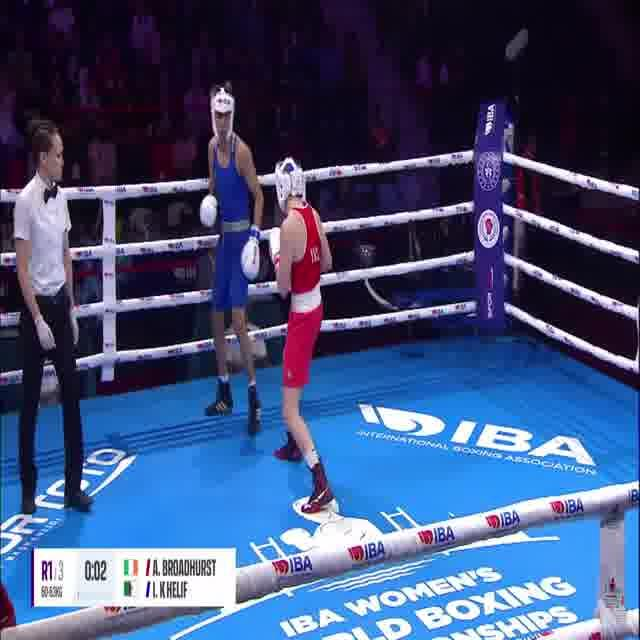blue-player: (193, 80, 267, 438)
red-player: (266, 155, 338, 515)
referee: (13, 115, 96, 521)
